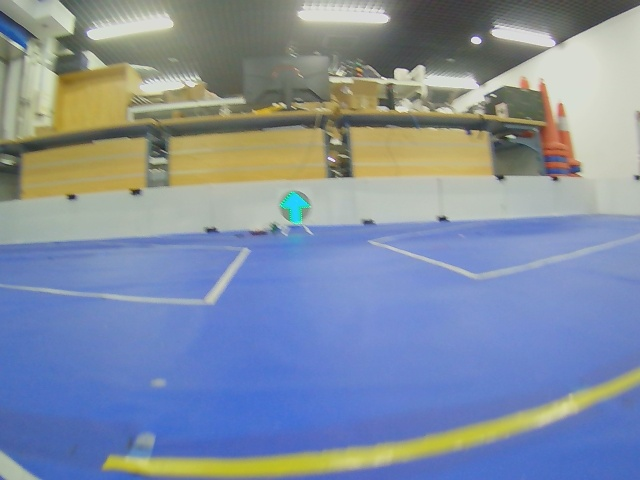straight_green: (280, 191, 311, 225)
